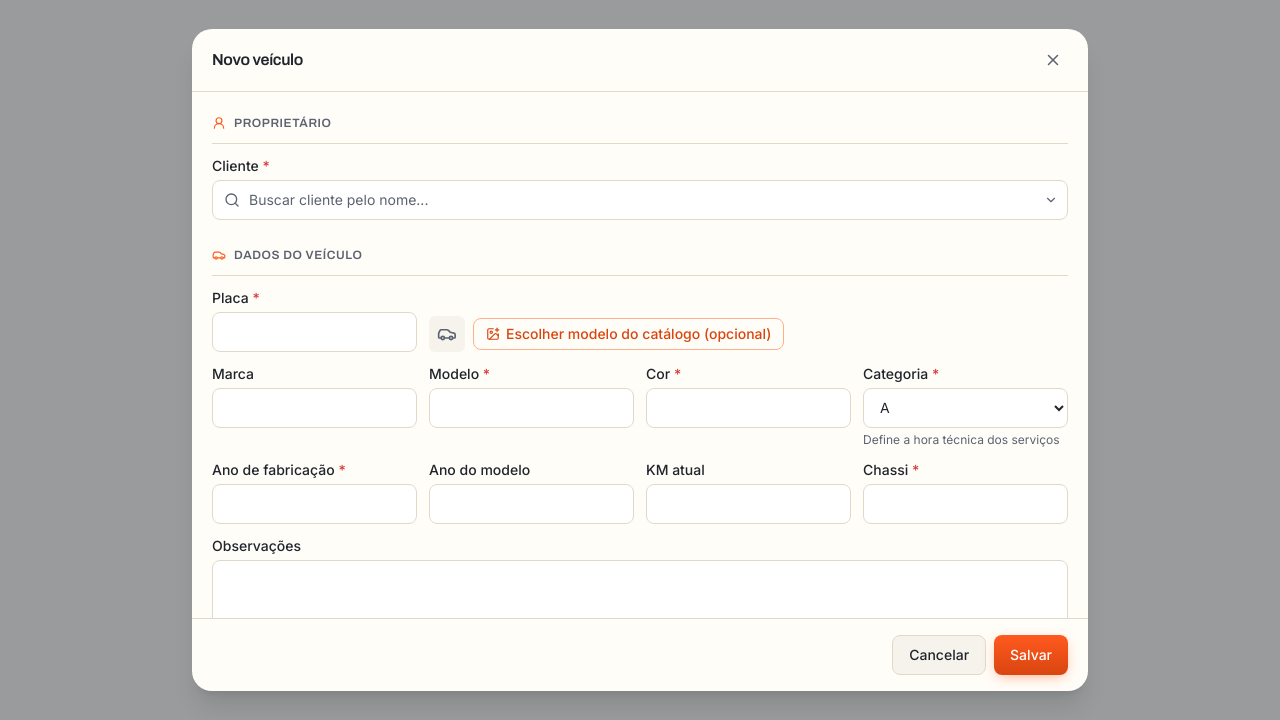
Test: VeiculoFormModal › shows validation errors for the required fields
Click the button "Salvar": (1031, 655) top-left (994, 635), bottom-right (1068, 675)
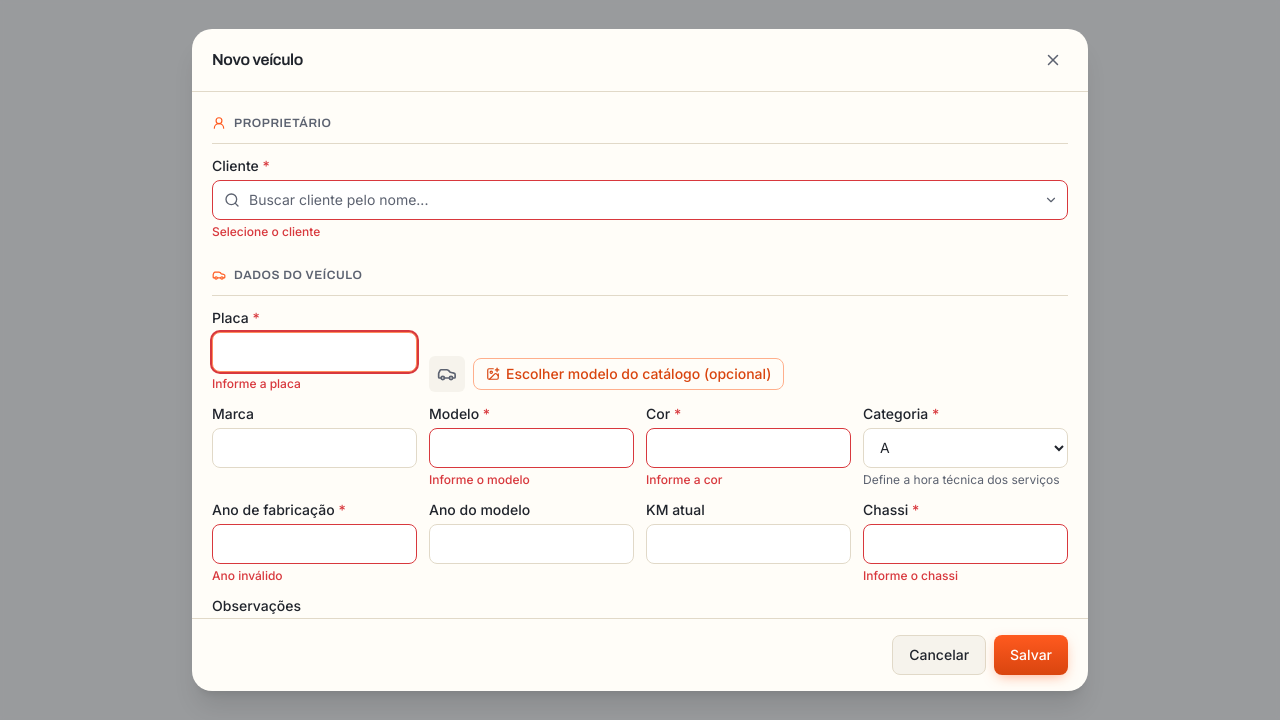
Check: the text "Selecione o cliente" is shown, box top-left (212, 224), bottom-right (320, 239)
Check: the text "Informe a placa" is shown, box top-left (212, 376), bottom-right (301, 391)
